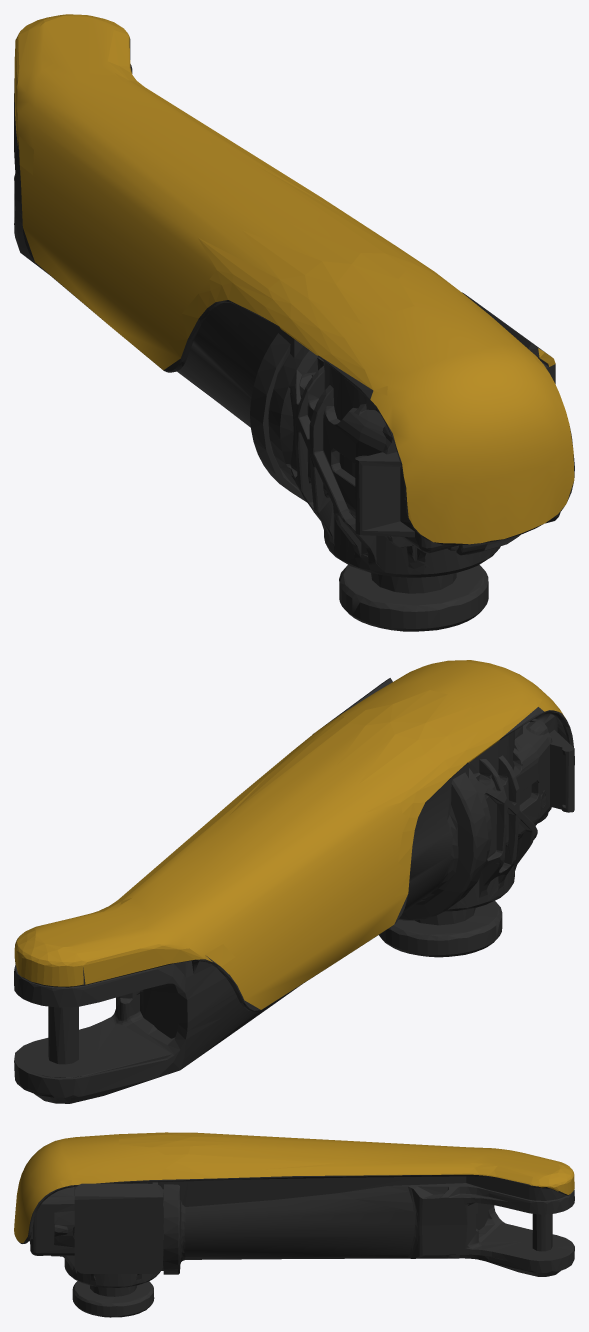
Rendered from rear_left_upper_leg.glb.
The picture shows the model from 3 angles, top to bottom: view 1: azimuth 30°, elevation 25°; view 2: azimuth 150°, elevation 25°; view 3: azimuth 270°, elevation 25°; orthographic projection. The views are drawn at different scales.
Parts seen in each view (by area): view 1: rear_left_upper_leg; view 2: rear_left_upper_leg; view 3: rear_left_upper_leg.
Part boxes in pixels (box(x1,y1,x2,y2)): rear_left_upper_leg: box(14, 14, 574, 631); rear_left_upper_leg: box(14, 660, 574, 1103); rear_left_upper_leg: box(14, 1132, 574, 1317).
Size of the model in its own units: 0.1013 by 0.1322 by 0.4185.
